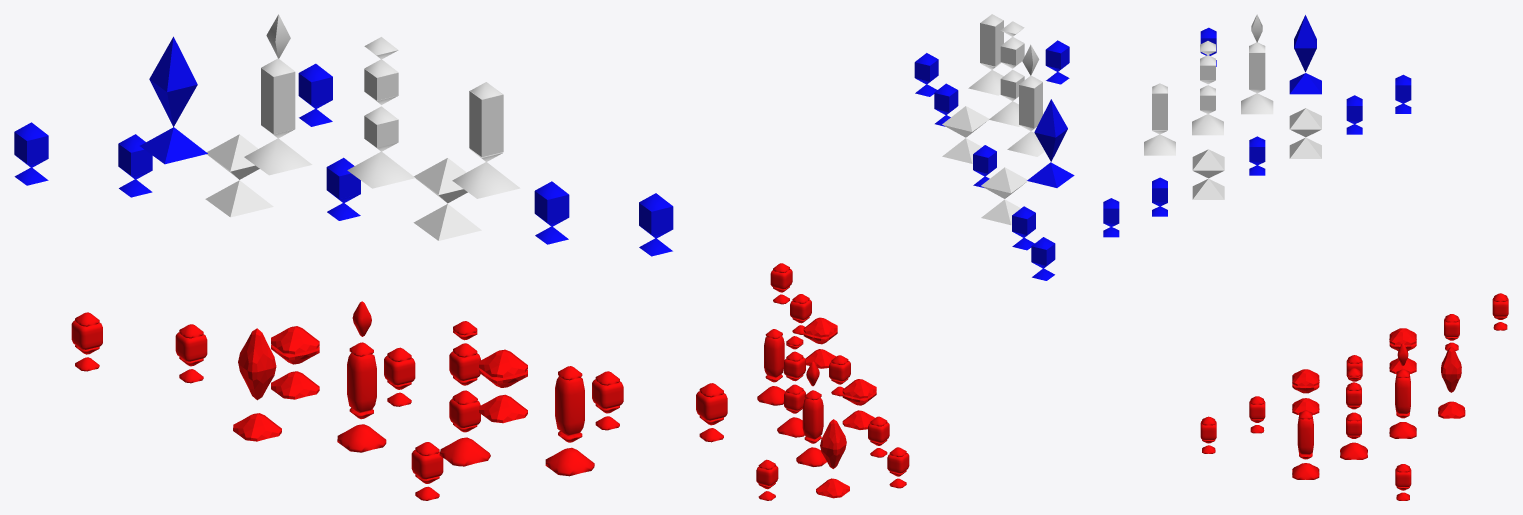
The model's file is Solo-piezas.fbx.
3 renders of one model, left to right at view 1: azimuth 30°, elevation 25°; view 2: azimuth 150°, elevation 25°; view 3: azimuth 270°, elevation 25°, orthographic. The views are drawn at different scales.
Parts seen in each view (by area): view 1: Platónico, Pirámide_5, Alfiil, Torre_1, Rey, Reina_2, Alfiil_2, Torre_1_2, Pirámide_1, Pirámide_1_2, Caballo_2_2, Caballo_1_2 (+12 smaller); view 2: Platónico, Pirámide_5, Torre_1, Reina_2, Alfiil, Rey, Alfiil_2, Torre_1_2, Pirámide_1, Pirámide_1_2, Caballo_2_2, Caballo_1_2 (+12 smaller); view 3: Platónico, Pirámide_5, Torre_1, Alfiil, Rey, Reina_2, Pirámide_1, Pirámide_1_2, Alfiil_2, Torre_1_2, Caballo_1_2, Caballo_2_2 (+10 smaller).
Part boxes in pixels (x1=…): Platónico: x1=244, y1=14, x2=312, y2=175; Pirámide_5: x1=347, y1=37, x2=415, y2=188; Alfiil: x1=452, y1=82, x2=520, y2=198; Torre_1: x1=140, y1=36, x2=207, y2=164; Rey: x1=439, y1=321, x2=490, y2=466; Reina_2: x1=337, y1=301, x2=386, y2=452; Alfiil_2: x1=545, y1=366, x2=594, y2=476; Torre_1_2: x1=233, y1=328, x2=281, y2=441; Pirámide_1: x1=205, y1=134, x2=273, y2=217; Pirámide_1_2: x1=413, y1=158, x2=481, y2=240; Caballo_2_2: x1=271, y1=326, x2=319, y2=399; Caballo_1_2: x1=479, y1=349, x2=527, y2=423; Platónico: x1=1007, y1=44, x2=1044, y2=156; Pirámide_5: x1=989, y1=21, x2=1024, y2=126; Torre_1: x1=1027, y1=99, x2=1074, y2=187; Reina_2: x1=796, y1=361, x2=826, y2=466; Alfiil: x1=968, y1=14, x2=1003, y2=95; Rey: x1=777, y1=336, x2=805, y2=437; Alfiil_2: x1=757, y1=329, x2=785, y2=405; Torre_1_2: x1=816, y1=419, x2=849, y2=498; Pirámide_1: x1=981, y1=167, x2=1027, y2=225; Pirámide_1_2: x1=942, y1=106, x2=988, y2=163; Caballo_2_2: x1=842, y1=379, x2=876, y2=429; Caballo_1_2: x1=803, y1=317, x2=837, y2=368; Platónico: x1=1241, y1=14, x2=1273, y2=114; Pirámide_5: x1=1192, y1=41, x2=1223, y2=135; Torre_1: x1=1289, y1=15, x2=1321, y2=94; Alfiil: x1=1144, y1=83, x2=1175, y2=155; Rey: x1=1340, y1=368, x2=1367, y2=459; Reina_2: x1=1389, y1=343, x2=1416, y2=438; Pirámide_1: x1=1289, y1=108, x2=1321, y2=158; Pirámide_1_2: x1=1192, y1=149, x2=1224, y2=199; Alfiil_2: x1=1292, y1=410, x2=1319, y2=479; Torre_1_2: x1=1438, y1=347, x2=1465, y2=418; Caballo_1_2: x1=1292, y1=369, x2=1319, y2=414; Caballo_2_2: x1=1389, y1=328, x2=1416, y2=373.
Bounding box in the file's own units: 833 × 913 × 833.
